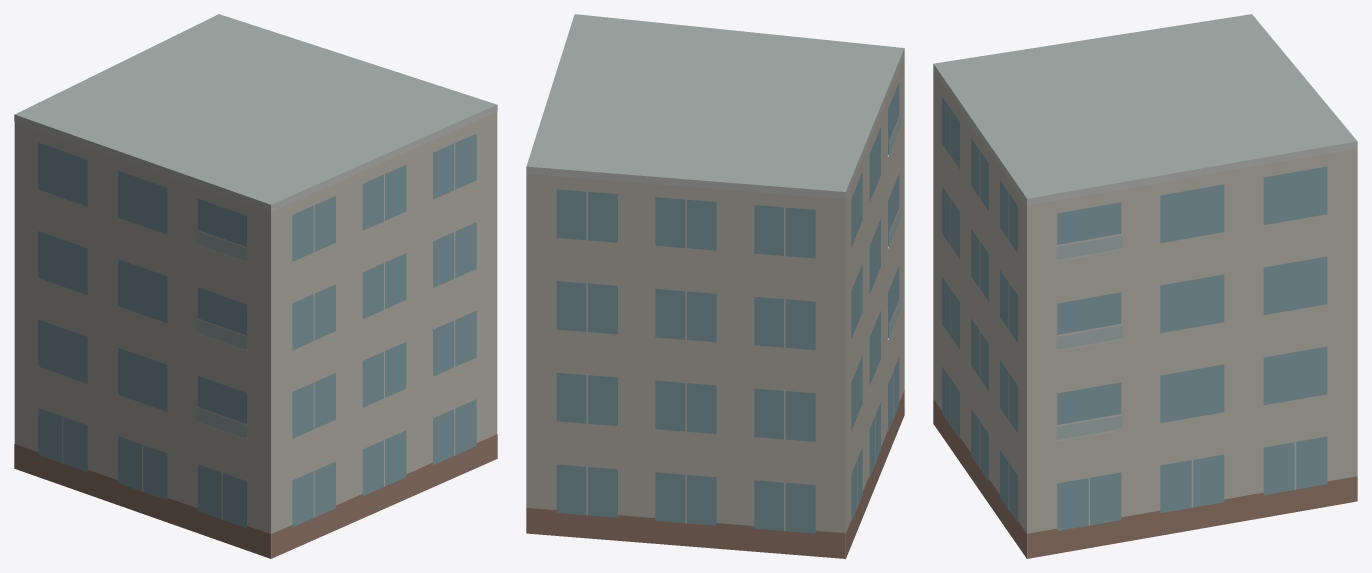
The model's file is survey-upis-32614691.glb.
The picture shows the model from 3 angles, left to right: view 1: azimuth 30°, elevation 25°; view 2: azimuth 150°, elevation 25°; view 3: azimuth 270°, elevation 25°; orthographic projection. The views are drawn at different scales.
Parts seen in each view (by area): view 1: survey-upis-32614691.tmp; view 2: survey-upis-32614691.tmp; view 3: survey-upis-32614691.tmp.
Part boxes in pixels (x1=…): survey-upis-32614691.tmp: x1=14, y1=14, x2=497, y2=558; survey-upis-32614691.tmp: x1=526, y1=14, x2=904, y2=558; survey-upis-32614691.tmp: x1=933, y1=14, x2=1357, y2=558.
Size of the model in its own units: 13.43 by 12.2 by 13.03.
